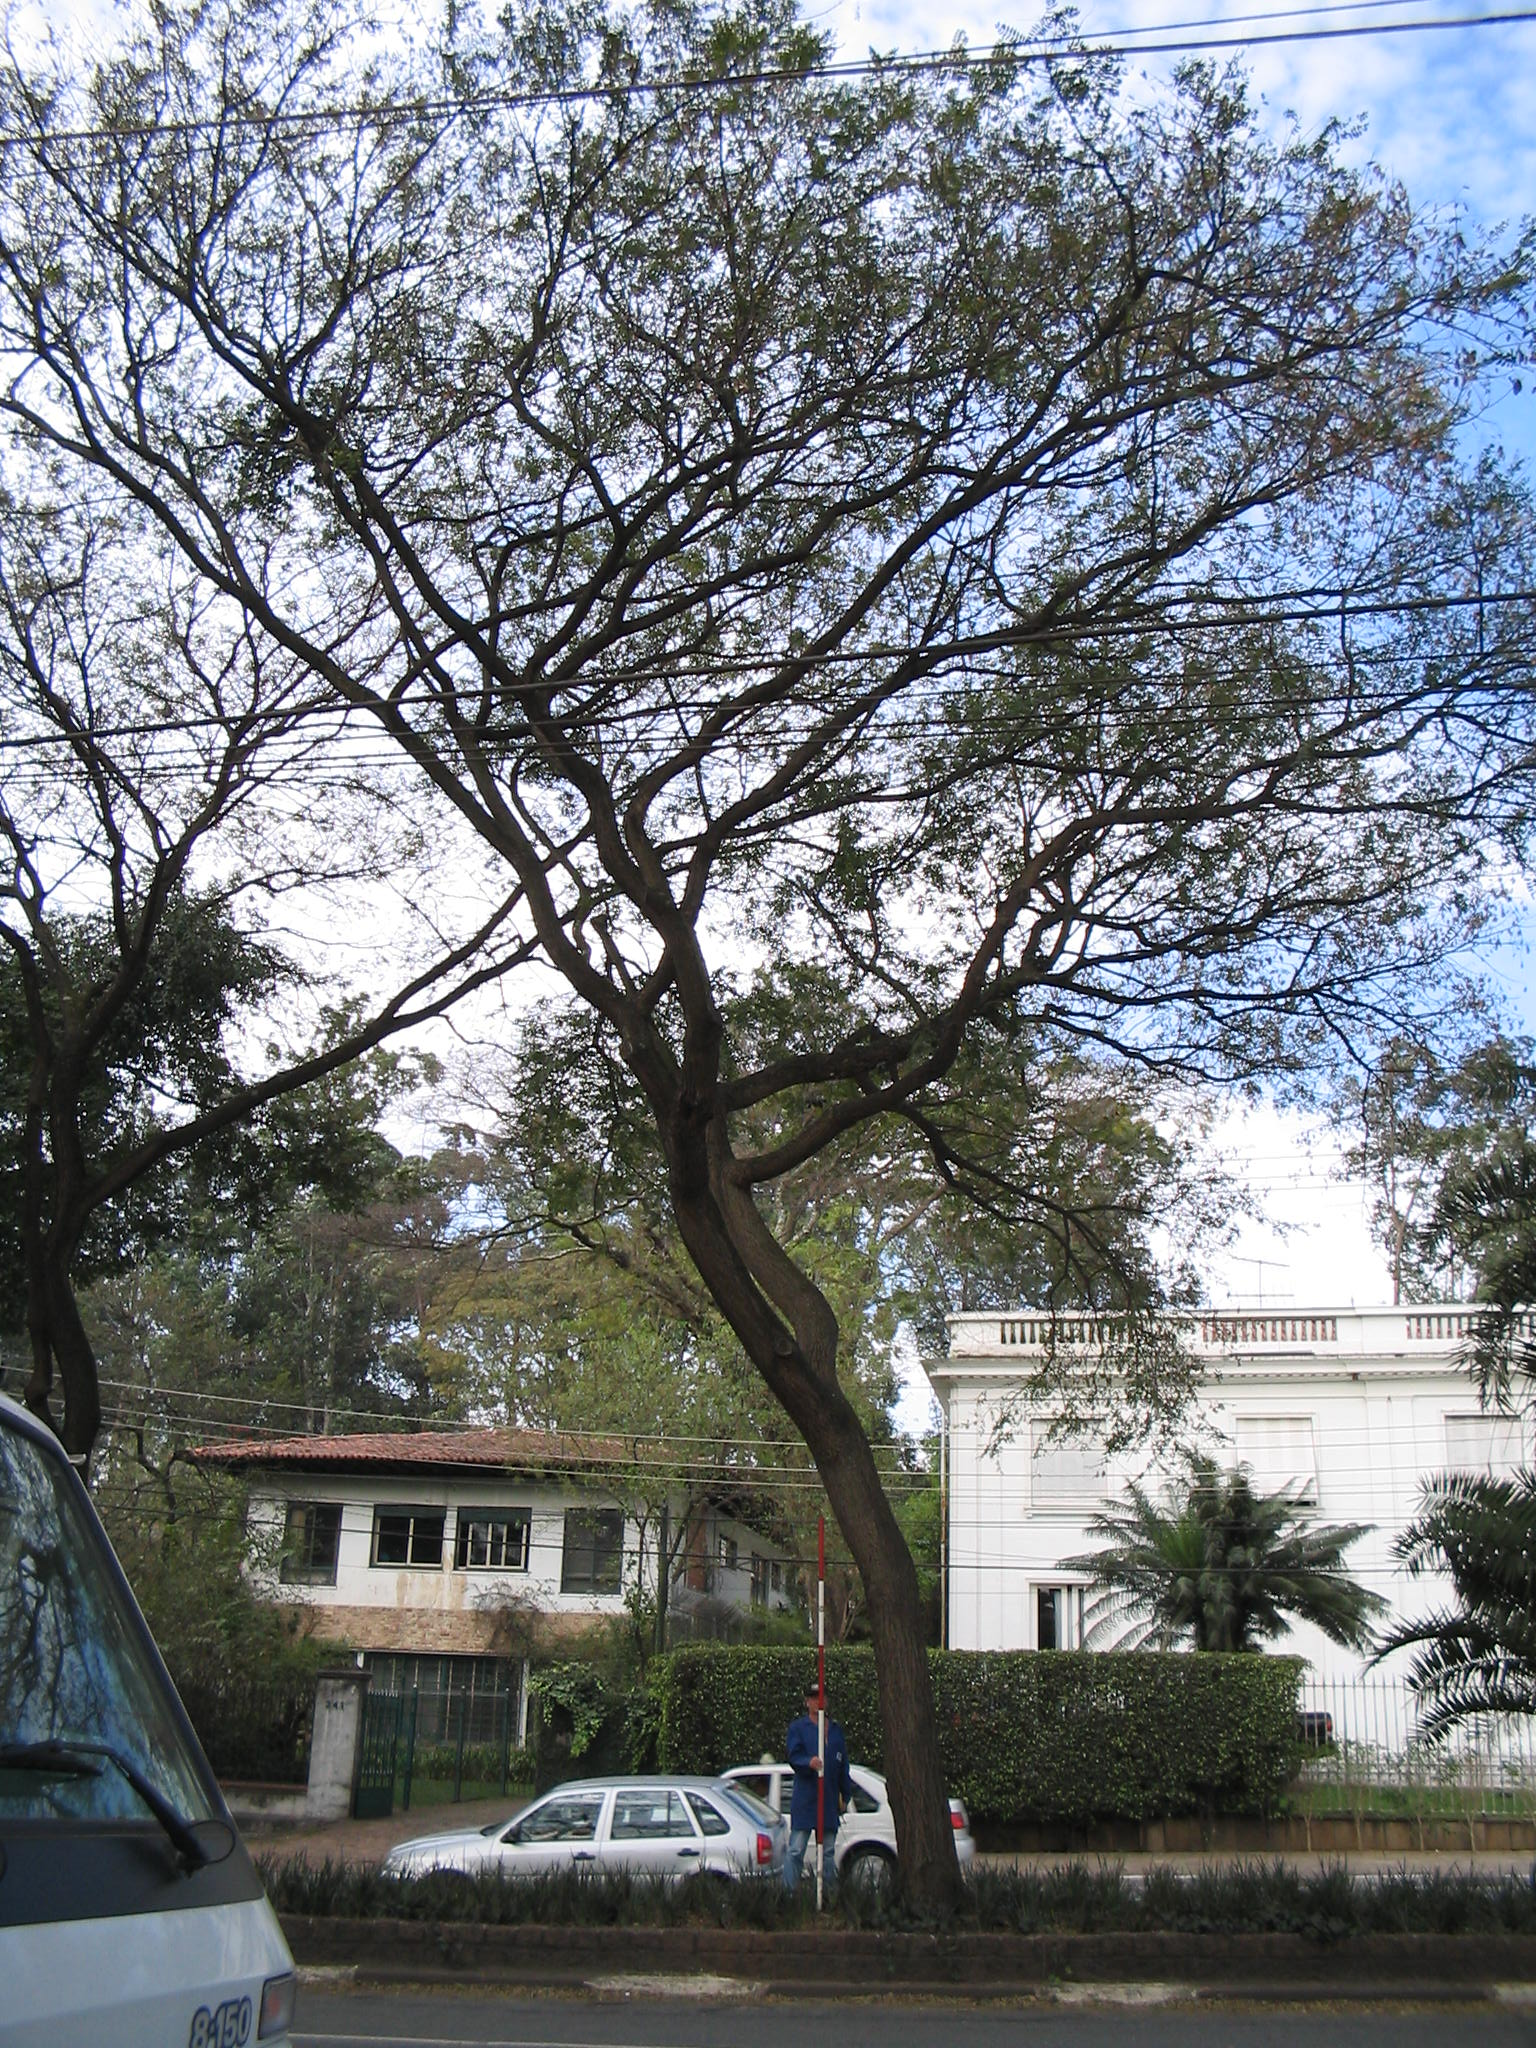crown: (19, 11, 1533, 1461)
stem: (778, 1411, 1010, 1924)
stick: (778, 1516, 857, 1908)
tree: (11, 3, 1533, 1932)
